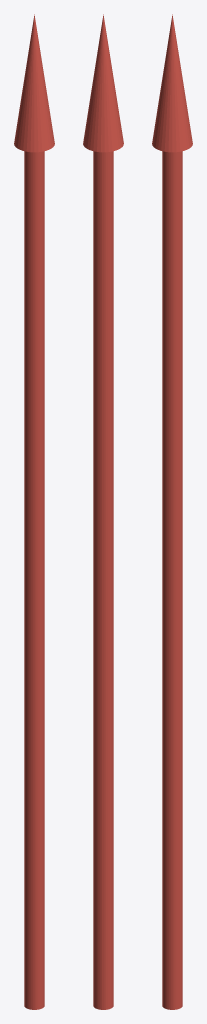
Rendered from red_arrow.dae.
3 renders of one model, left to right at view 1: azimuth 90°, elevation 25°; view 2: azimuth 150°, elevation 25°; view 3: azimuth 270°, elevation 25°, orthographic.
Parts seen in each view (by area): view 1: Cylinder, Cone; view 2: Cylinder, Cone; view 3: Cylinder, Cone.
Part boxes in pixels (left/top/right/bottom): Cylinder: left=24, top=151, right=44, bottom=1009; Cone: left=14, top=14, right=54, bottom=152; Cylinder: left=93, top=151, right=113, bottom=1009; Cone: left=83, top=14, right=123, bottom=152; Cylinder: left=162, top=151, right=182, bottom=1009; Cone: left=152, top=14, right=192, bottom=152.
Size of the model in its own units: 0.04 by 0.04 by 1.07.
